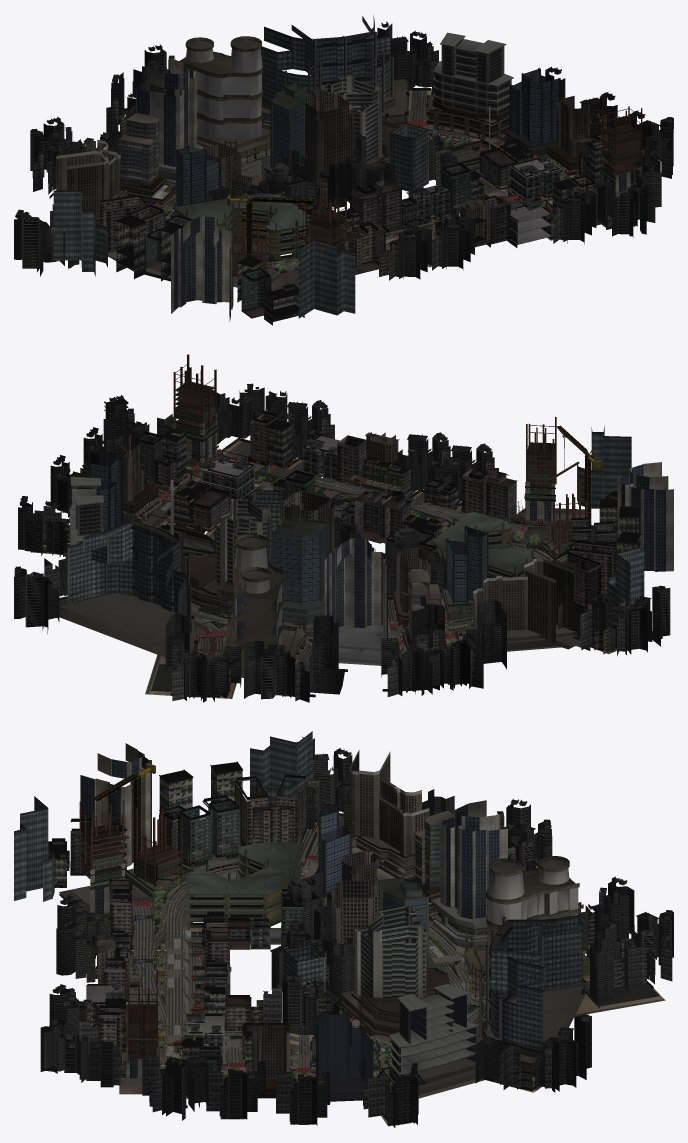
File: burnout revenge central route crash junction.glb
3 renders of one model, top to bottom at view 1: azimuth 30°, elevation 25°; view 2: azimuth 150°, elevation 25°; view 3: azimuth 270°, elevation 25°, orthographic. The views are drawn at different scales.
Parts seen in each view (by area): view 1: unit_012_sub_009_material_063_0; view 2: unit_012_sub_009_material_063_0; view 3: unit_012_sub_009_material_063_0.
Part boxes in pixels (bbox=[...]): unit_012_sub_009_material_063_0: bbox=[14, 15, 673, 325]; unit_012_sub_009_material_063_0: bbox=[14, 354, 673, 702]; unit_012_sub_009_material_063_0: bbox=[14, 731, 673, 1127].
Size of what is drawn, in the model's own units: 711 by 138 by 606.
105 materials, 104 textured.
